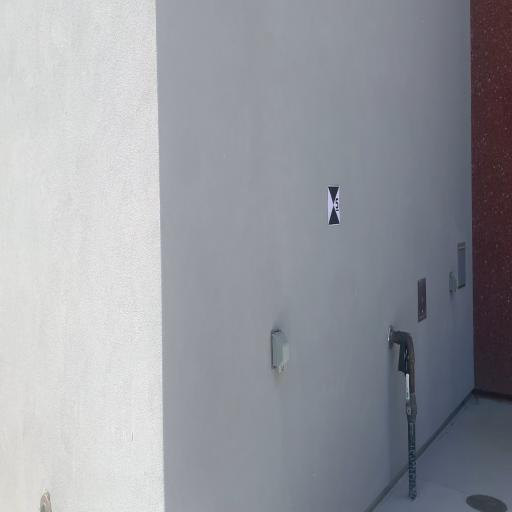target5: (328, 184, 341, 224)
